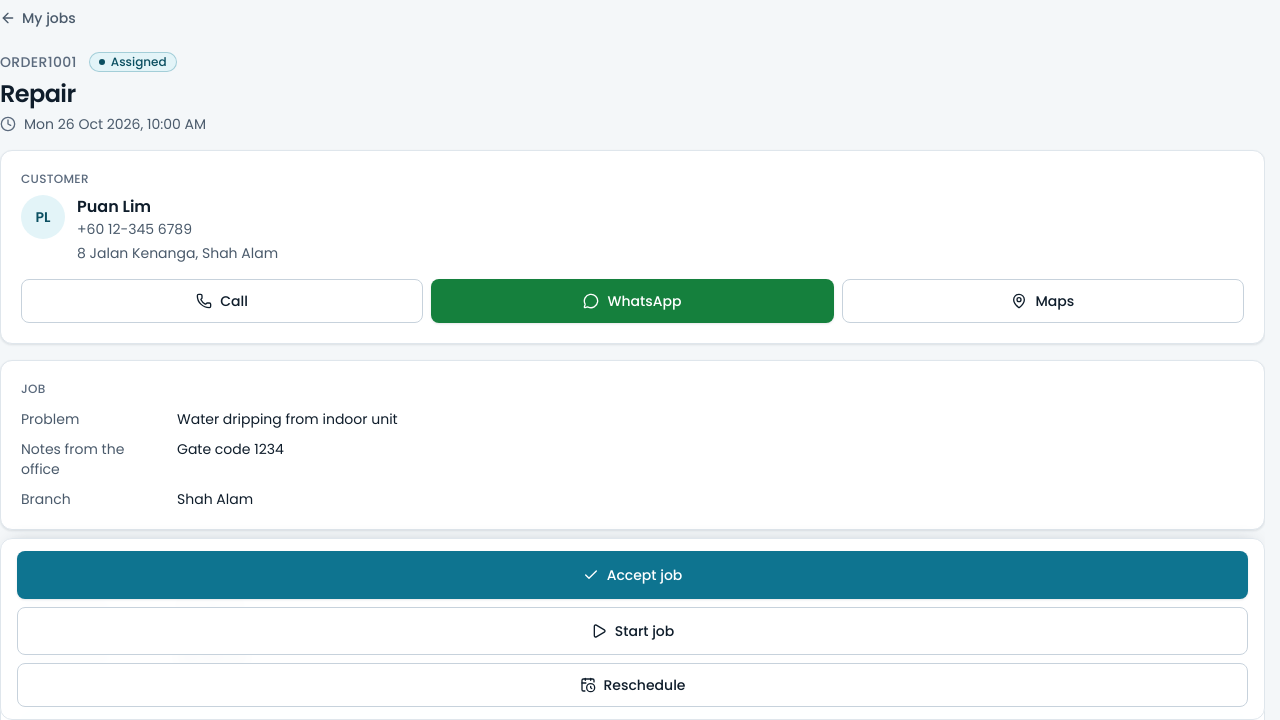
Reschedule (AC11) › saves a postponement with a reason through reschedule_order
The image size is (1280, 720).
Click the button "Reschedule" at (632,685), box [17,663,1248,707]
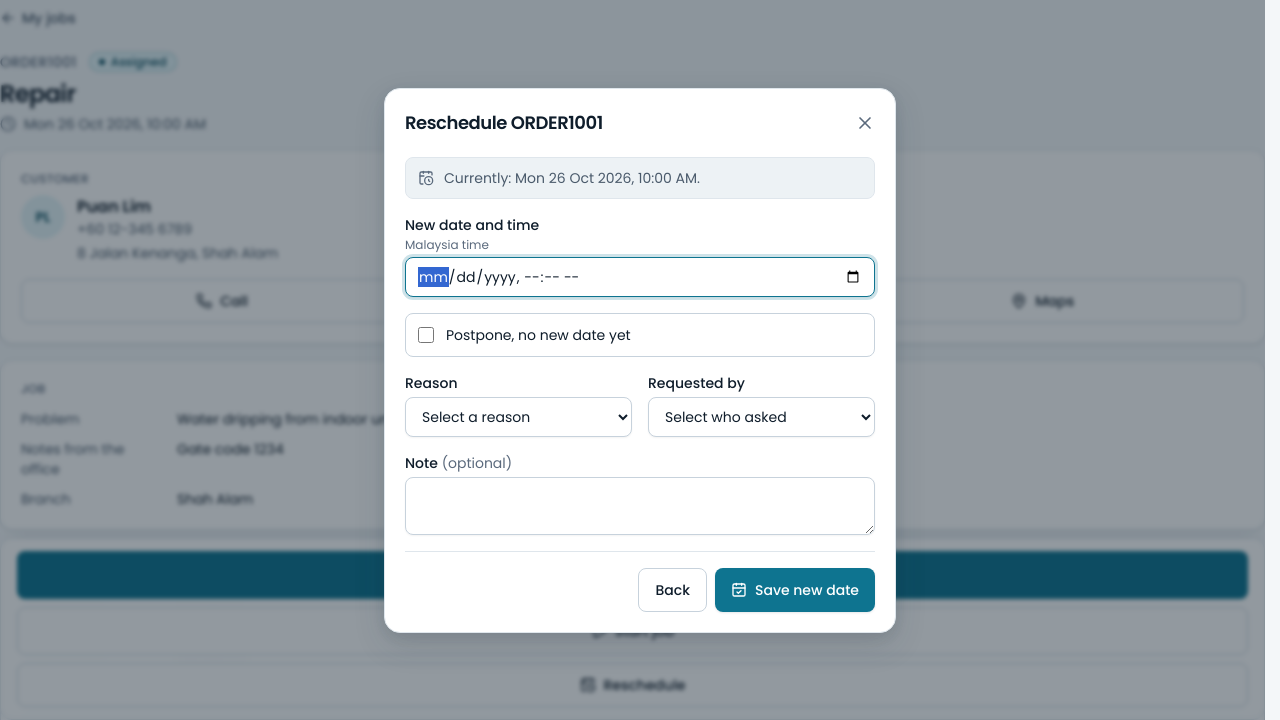
Click the checkbox labelled "Postpone, no new date yet" at (426,334), box [418,326,434,342]
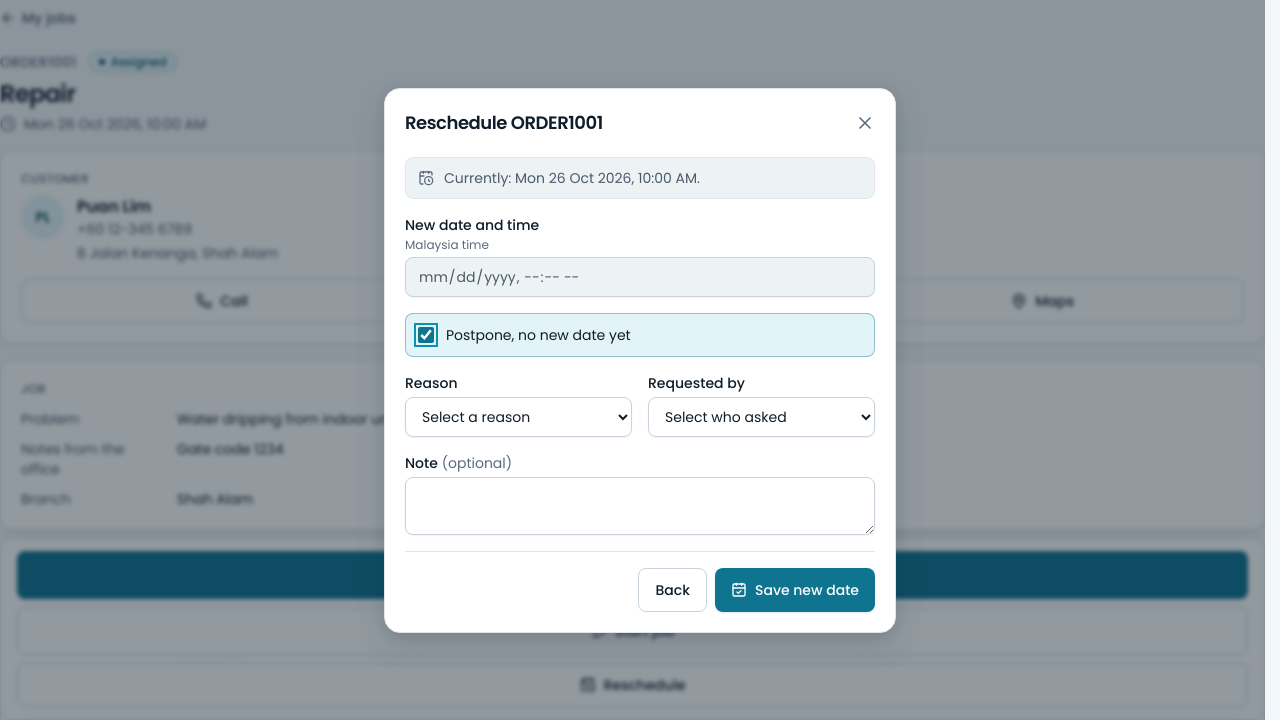
Select "Customer not home" in the dropdown labelled "Reason" at (518,416), box [405,396,632,436]
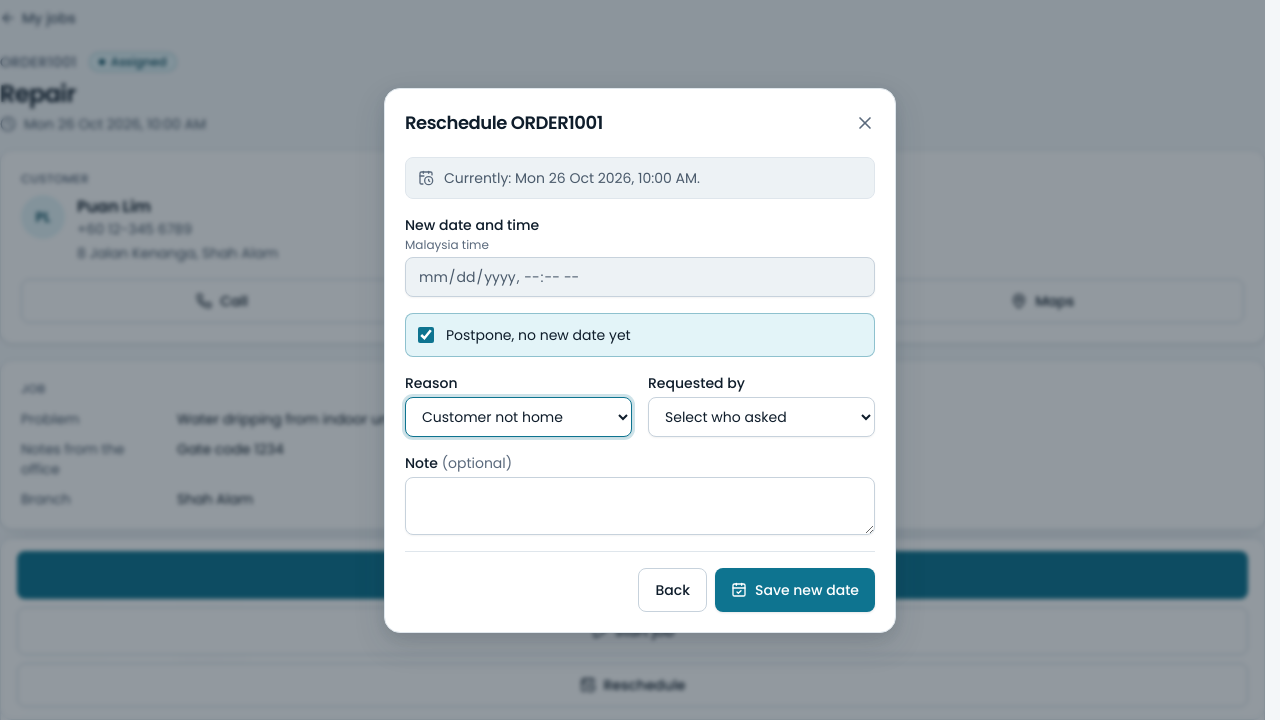
Select "Technician" in the dropdown labelled "Requested by" at (762,416), box [648,396,875,436]
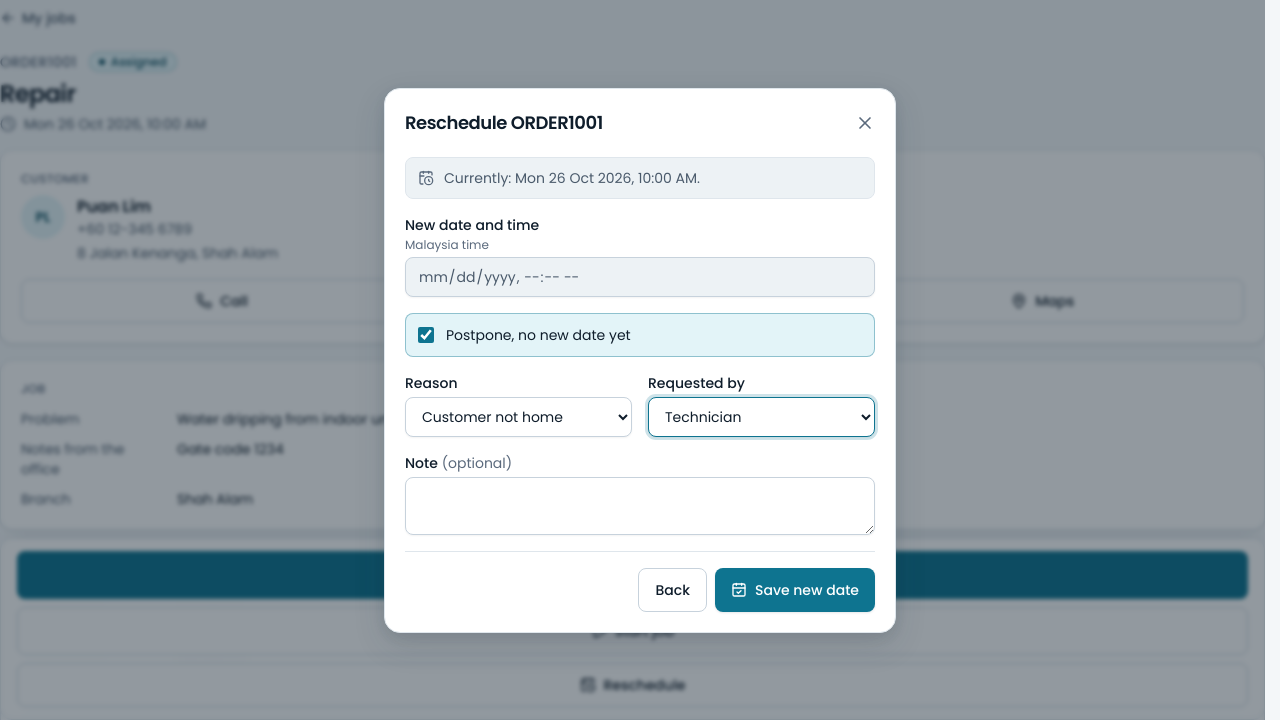
Click the button "Save new date" at (795,590), box [715,568,875,612]
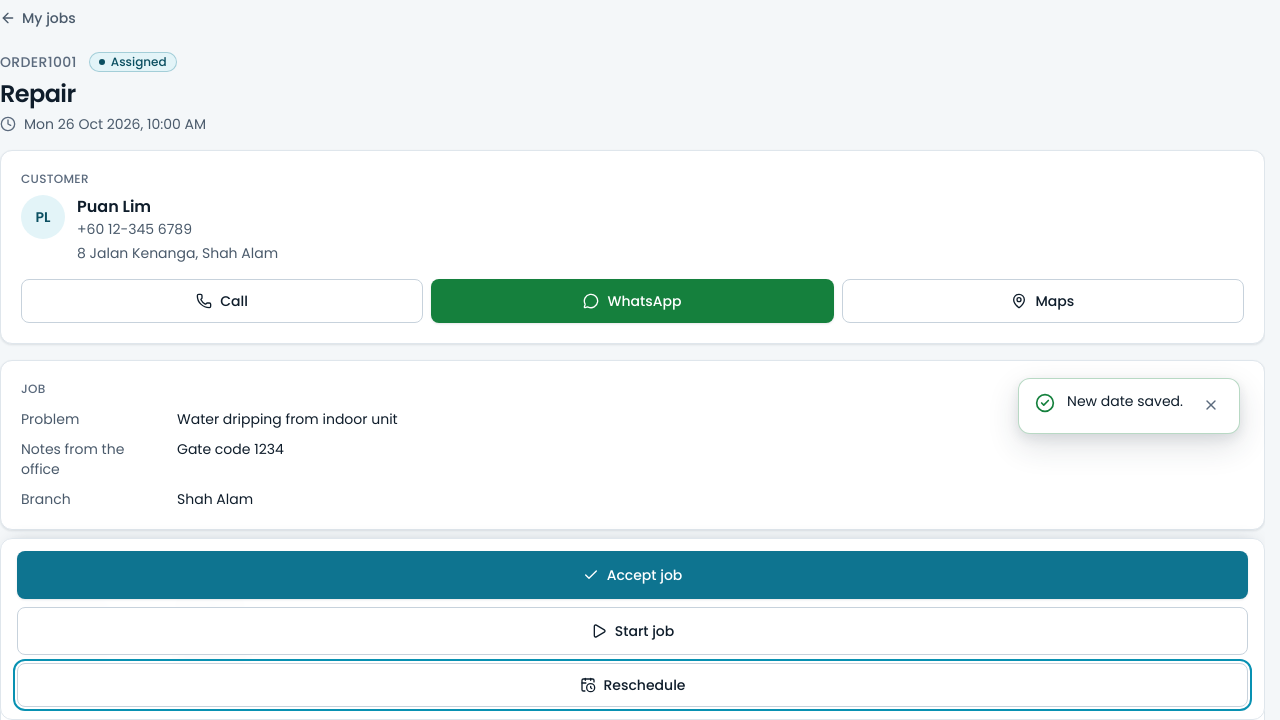
expect the text "New date saved." is shown: met, box [1067,391,1183,411]
